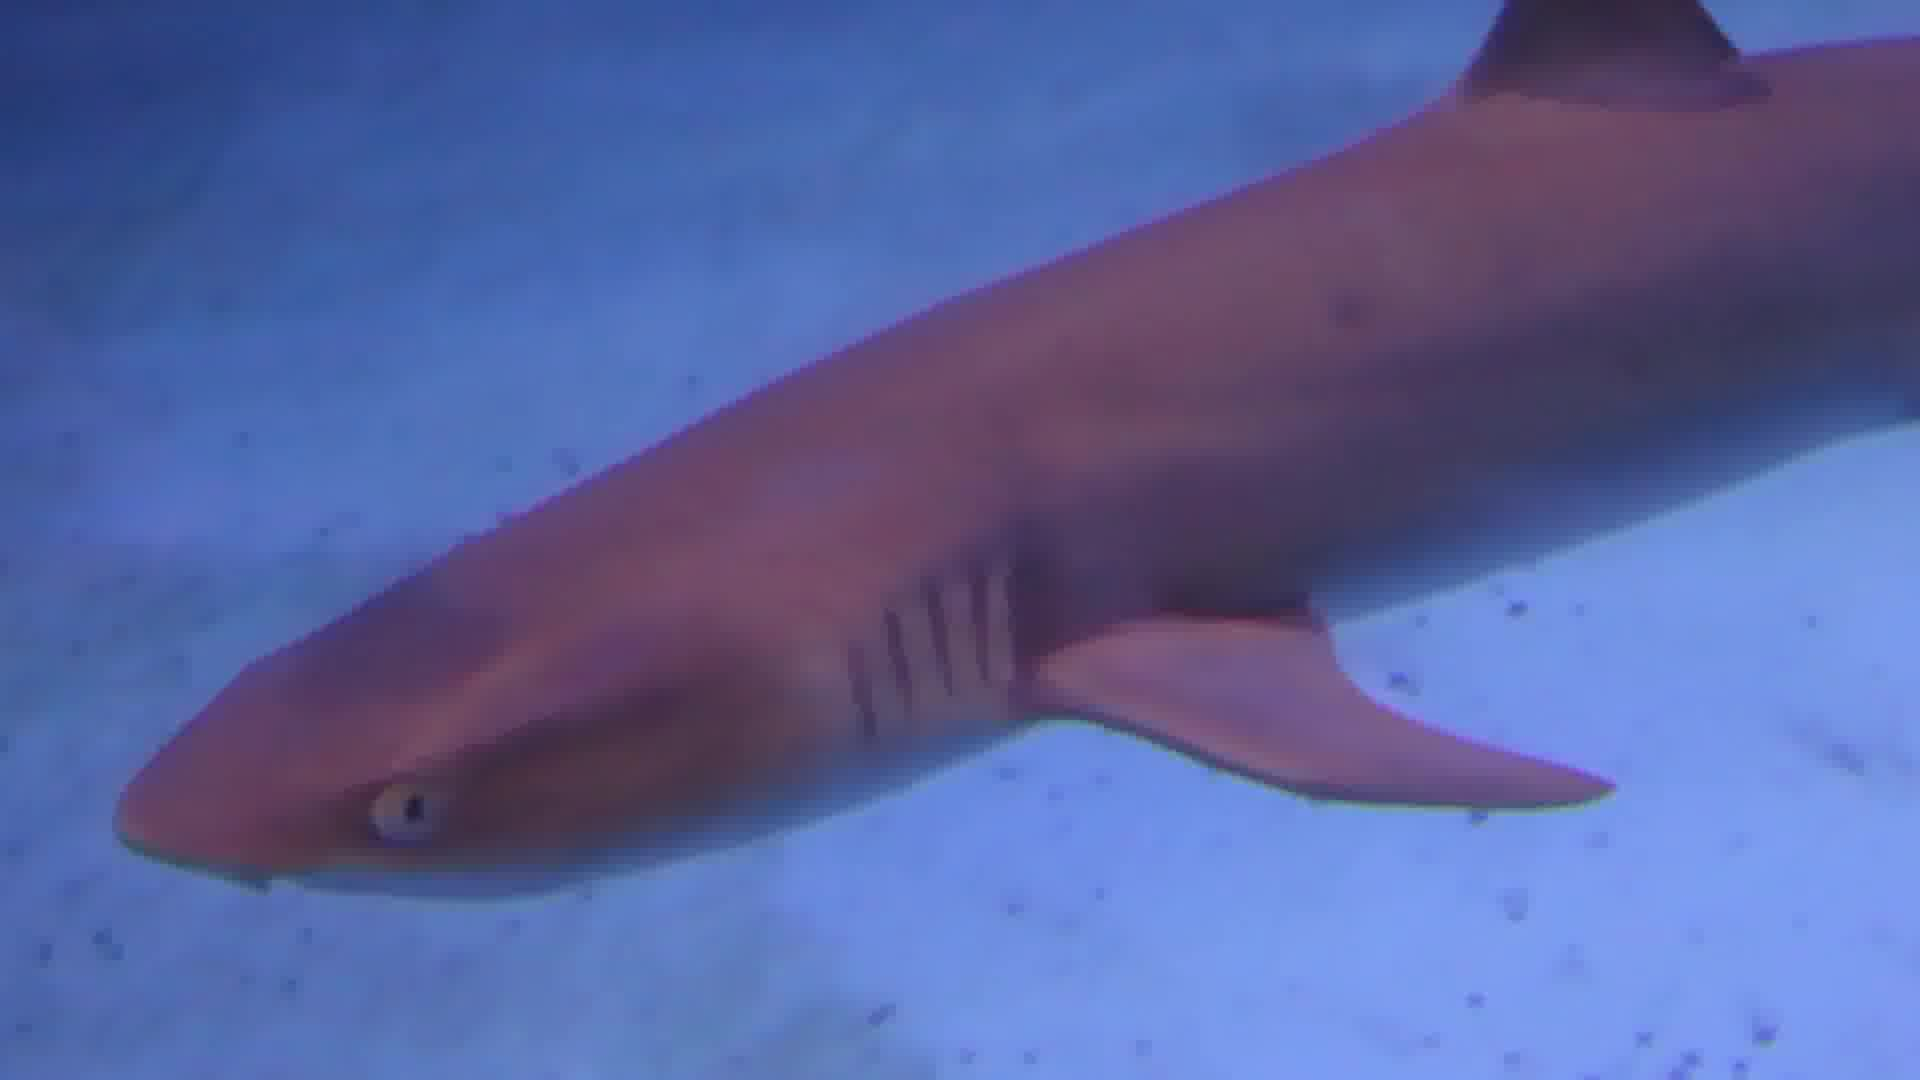Triaenodon obesus: (124, 3, 1913, 935)
